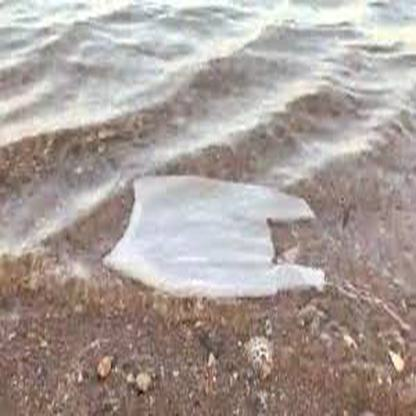plastic bag: (100, 173, 323, 297)
